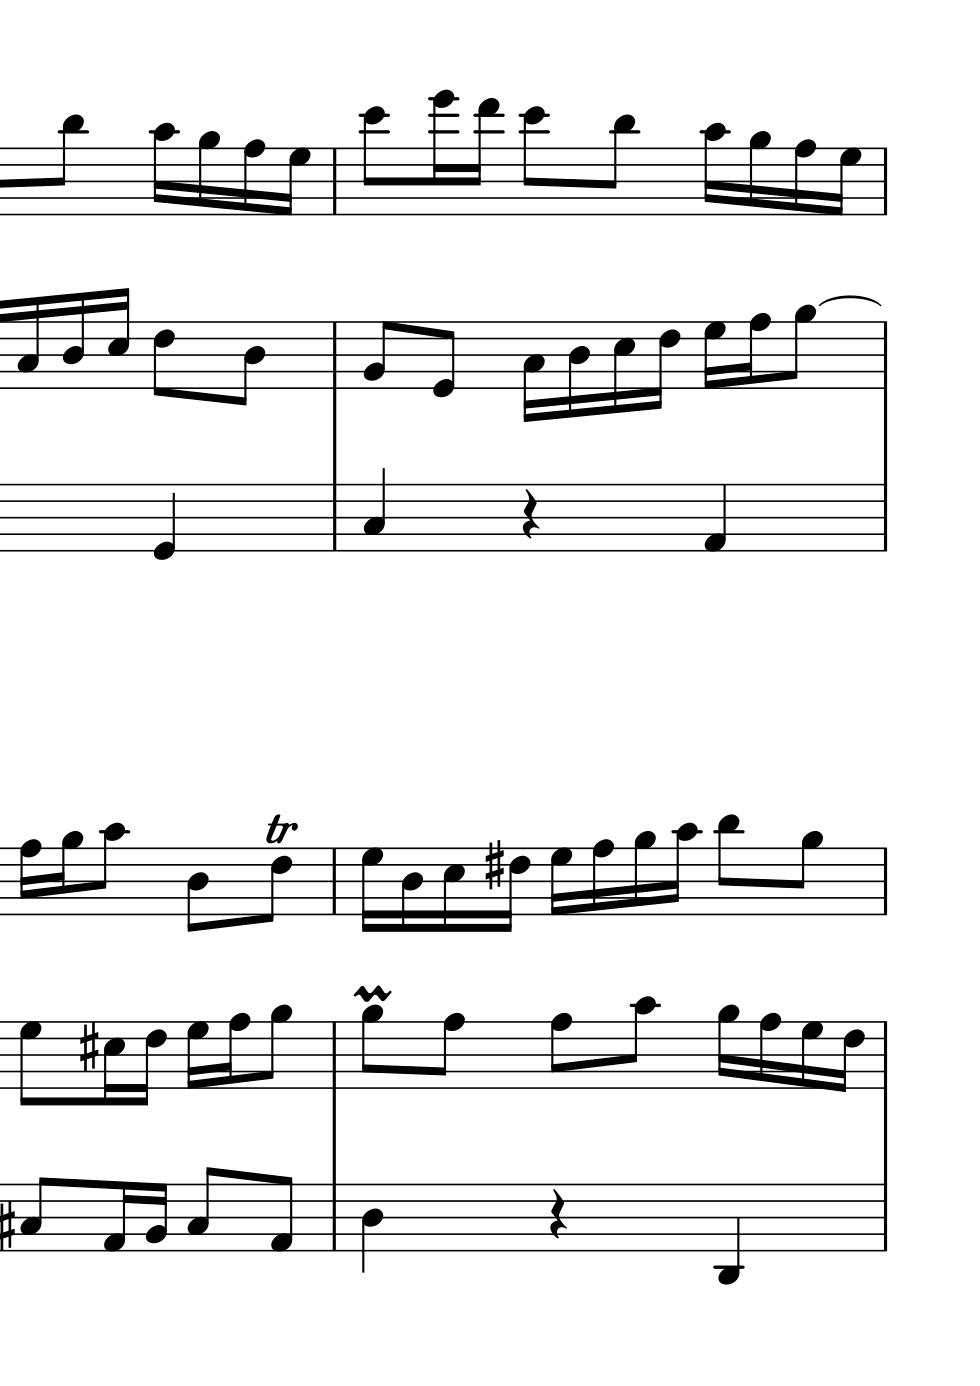16_1: (101, 1179, 133, 1255)
16_10: (666, 821, 700, 918), (699, 121, 730, 218), (148, 121, 178, 218)
16_13: (467, 97, 503, 217)
16_14: (428, 91, 459, 216)
16_2: (143, 1181, 168, 1253)
16_3: (14, 295, 42, 390), (520, 319, 545, 424)
16_4: (62, 290, 87, 391), (565, 319, 590, 420), (399, 845, 423, 935)
16_5: (106, 284, 132, 391), (610, 318, 635, 415), (439, 844, 466, 935), (101, 1019, 124, 1108)
16_6: (646, 318, 680, 413), (133, 1019, 167, 1108), (497, 845, 530, 934), (835, 1018, 865, 1093)
16_7: (279, 145, 311, 218), (830, 145, 862, 218), (358, 845, 383, 935), (700, 318, 727, 393), (798, 1017, 823, 1093), (547, 844, 572, 919), (183, 1018, 208, 1093)
16_8: (738, 312, 769, 391), (218, 1011, 249, 1090), (240, 137, 266, 218), (589, 838, 615, 918), (16, 838, 41, 917), (791, 138, 816, 218), (756, 1011, 781, 1091)
16_9: (51, 829, 83, 917), (746, 128, 771, 218), (631, 829, 657, 919), (195, 129, 220, 217), (714, 1003, 738, 1091)
4_-3: (714, 1180, 743, 1288)
4_0: (152, 483, 176, 562)
4_1: (702, 483, 727, 554)
4_3: (361, 467, 386, 552)
4_4: (360, 1182, 385, 1274)
8_0: (430, 320, 456, 400)
8_1: (267, 1174, 293, 1255)
8_10: (94, 821, 127, 917), (624, 995, 657, 1091)
8_11: (601, 113, 638, 218), (51, 113, 86, 218), (714, 812, 743, 917)
8_12: (519, 105, 549, 217), (358, 105, 388, 217)
8_2: (362, 320, 393, 390)
8_3: (185, 1166, 218, 1255), (18, 1176, 51, 1253)
8_4: (232, 320, 266, 408), (183, 846, 209, 935)
8_6: (259, 846, 293, 924), (151, 320, 175, 400)
8_7: (17, 1019, 43, 1107)
8_8: (432, 1010, 465, 1091), (547, 1011, 572, 1091)
8_9: (790, 829, 823, 917), (259, 1003, 292, 1091), (783, 304, 816, 391), (358, 1003, 384, 1090)
Rests4: (519, 488, 541, 541), (546, 1188, 568, 1241)
Sharp: (76, 1020, 100, 1075), (482, 839, 505, 892)
ShortTrill: (353, 983, 392, 1004)
Single_barline: (323, 1185, 343, 1251), (325, 848, 343, 914), (326, 148, 343, 215), (876, 848, 893, 915), (326, 1022, 343, 1088), (877, 321, 893, 388), (877, 1185, 893, 1251), (326, 322, 342, 388), (877, 1021, 892, 1090), (878, 147, 893, 215), (327, 484, 342, 551), (877, 484, 892, 551)
Slur: (821, 292, 876, 309)
Trill: (262, 812, 299, 846)
